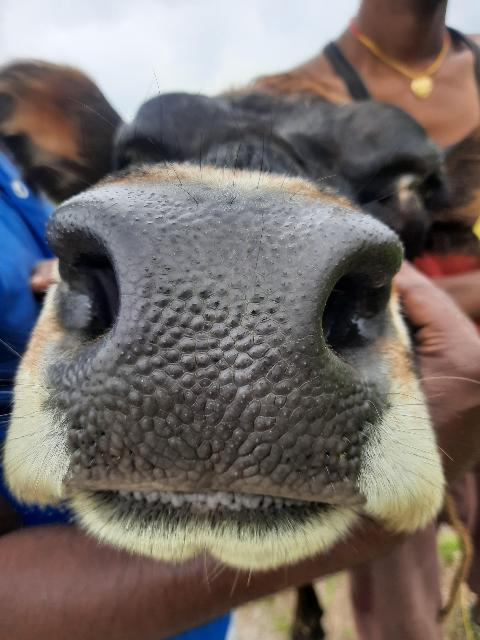Muzzle: (84, 190, 346, 484)
